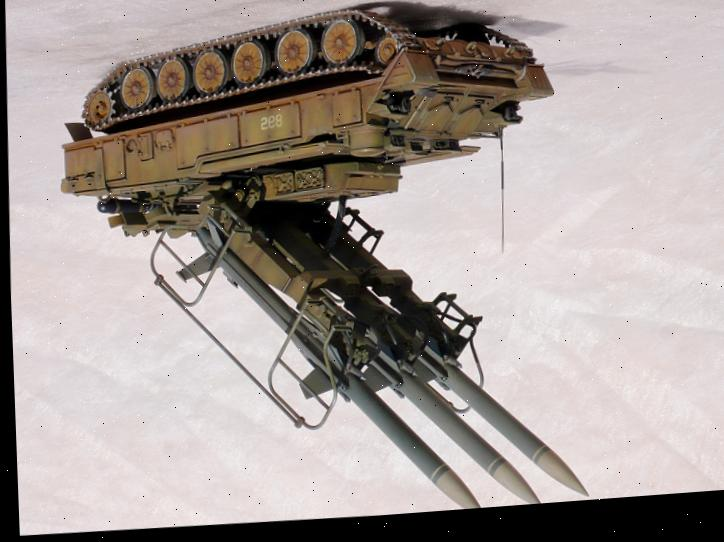armored_car: (36, 0, 633, 539)
